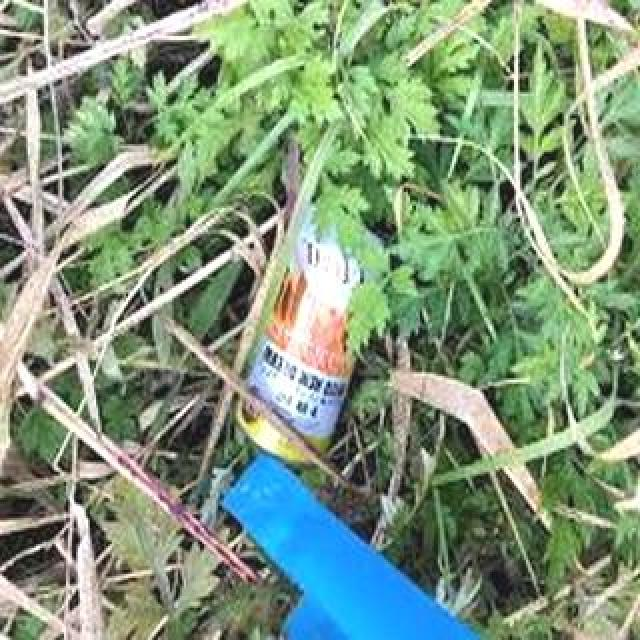Can: (237, 205, 383, 471)
